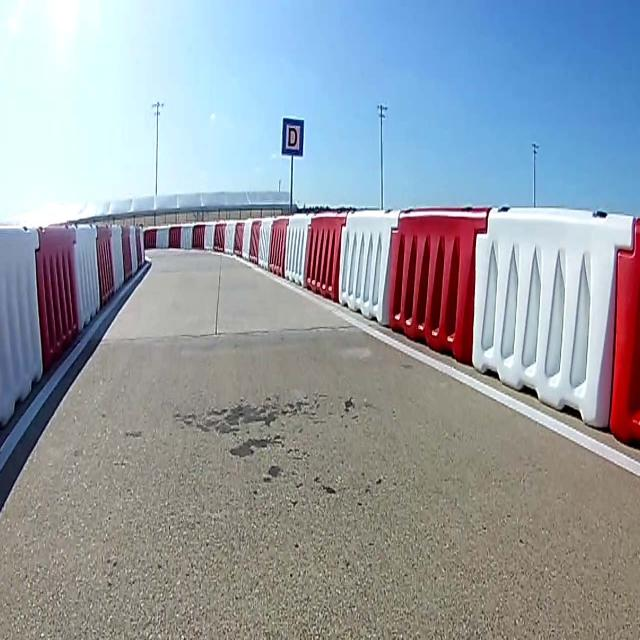durak: (282, 116, 306, 156)
